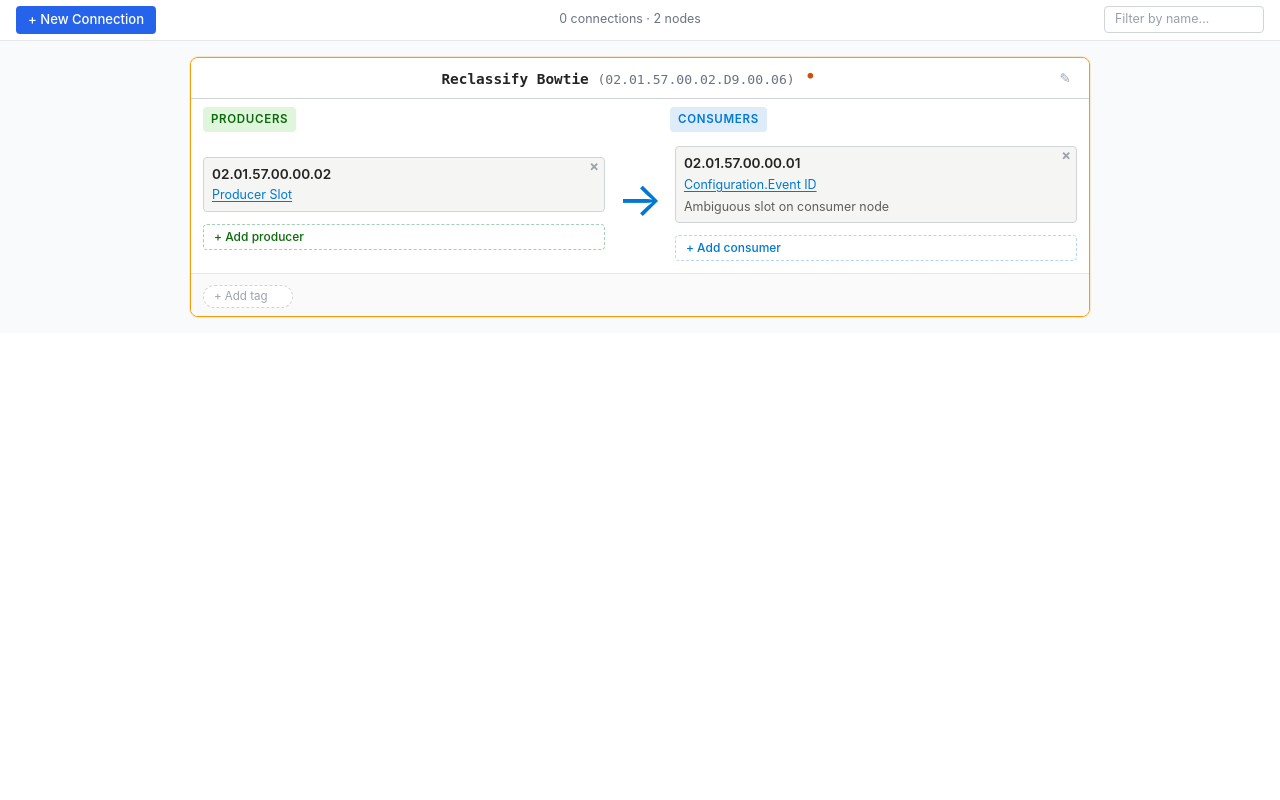
Scenario: BowtieCatalogPanel — reclassified-ambiguous last-consumer remove › reaches the delete-bowtie confirmation when removing a reclassified last consumer
Click the button named "remove consumer configuration.event id" at (1066, 156), box x1=1057 y1=148 x2=1075 y2=163
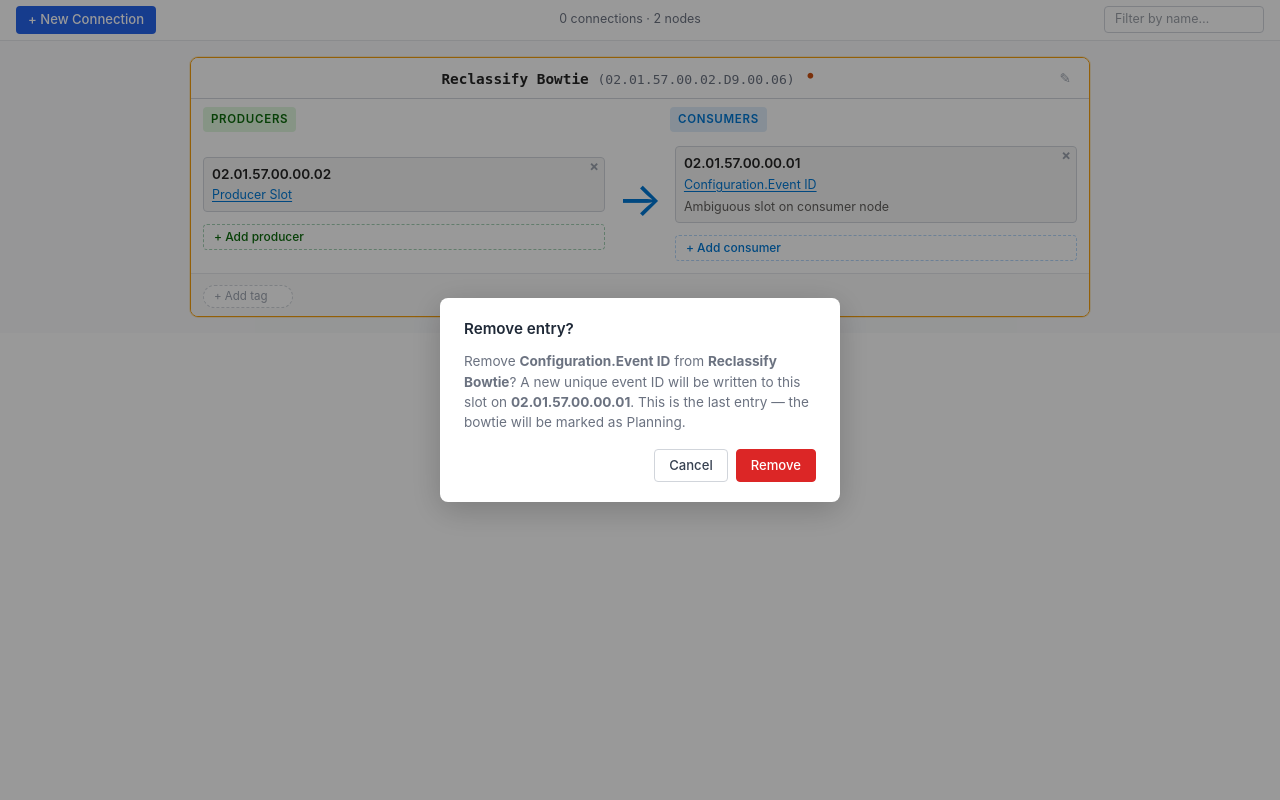
Check: the heading "Remove entry?" is shown, box x1=464 y1=319 x2=574 y2=338
Click the button "Remove" at (776, 465), box x1=736 y1=449 x2=816 y2=482
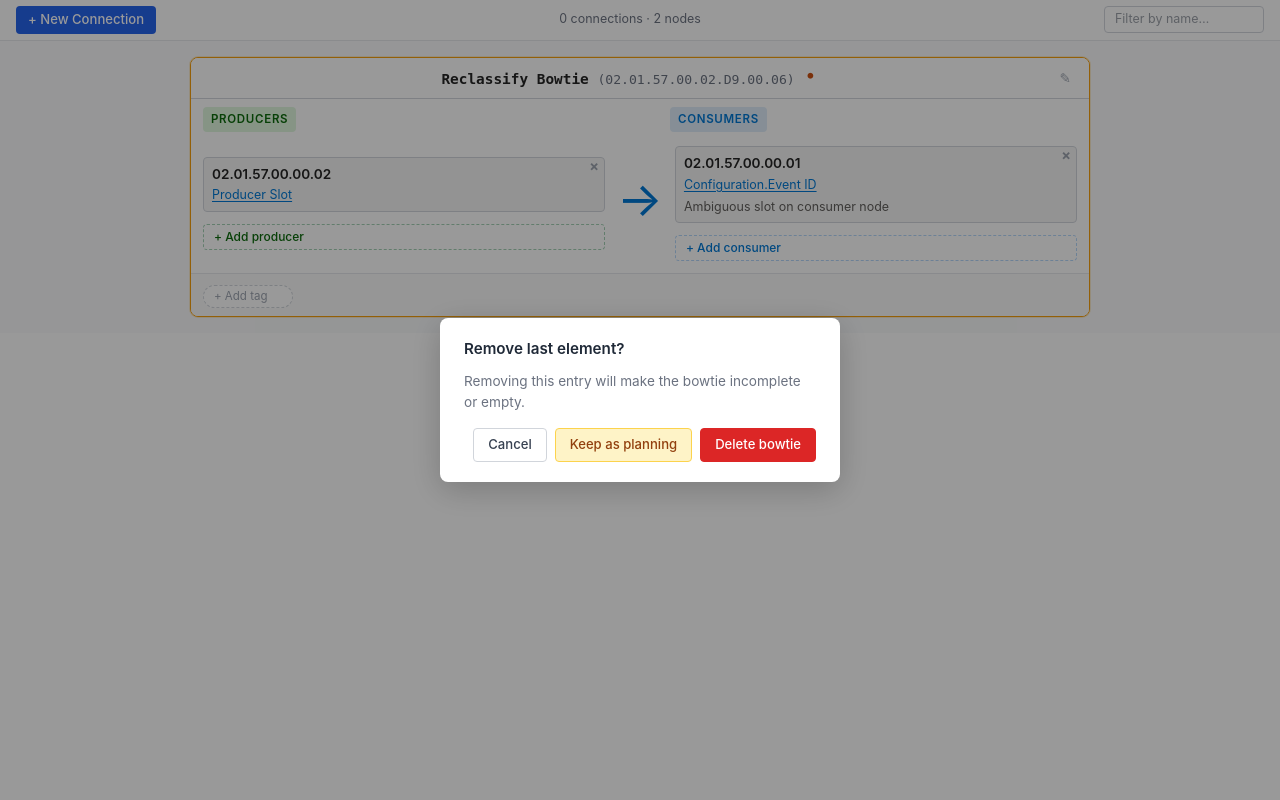
Check: the heading "Remove last element?" is shown, box x1=464 y1=339 x2=624 y2=358
